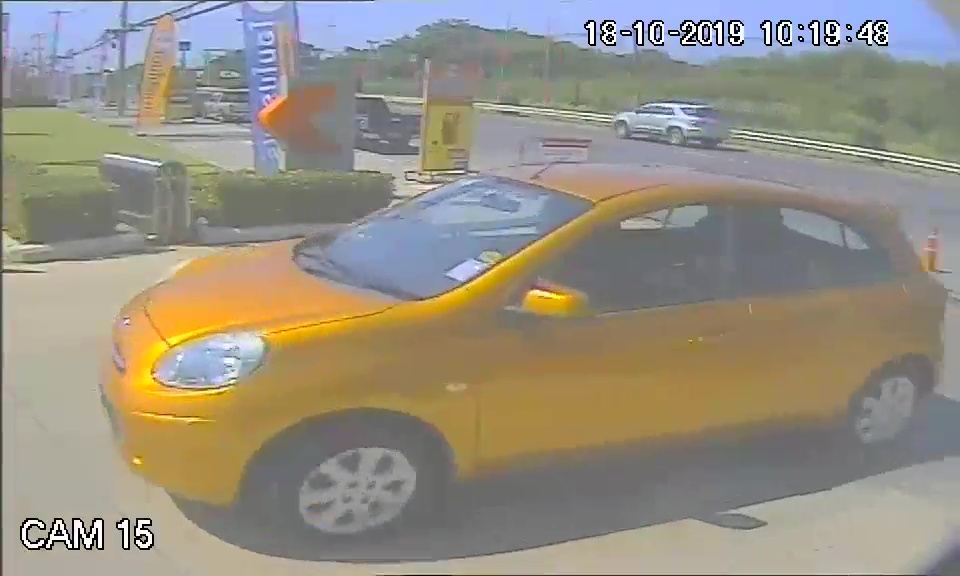sedan: (102, 159, 941, 516)
